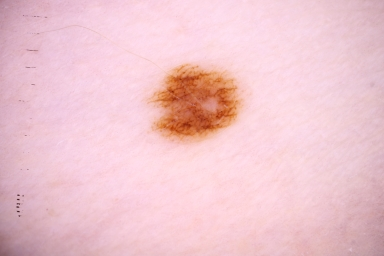melanoma: (151, 67, 239, 141)
